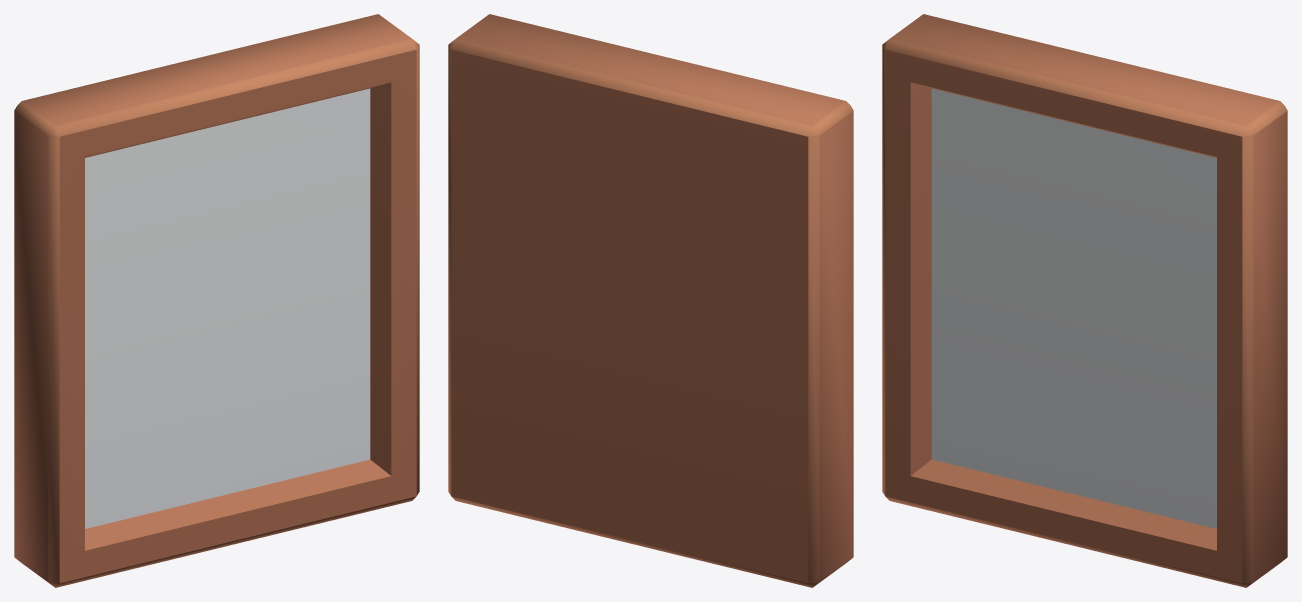
The model's file is kkf.pictureframe_large_a.glb.
3 views of the same model, side by side, from view 1: azimuth 30°, elevation 25°; view 2: azimuth 150°, elevation 25°; view 3: azimuth 330°, elevation 25° (orthographic).
Parts seen in each view (by area): view 1: pictureframe_large_A; view 2: pictureframe_large_A; view 3: pictureframe_large_A.
Boxes of the visible parts, x1,y1,x2,y2 form: pictureframe_large_A: [14, 14, 419, 587]; pictureframe_large_A: [448, 14, 853, 587]; pictureframe_large_A: [882, 14, 1287, 587].
Bounding box in the file's own units: 0.3613 × 0.4293 × 0.0715.
Materials: 1 (1 with a texture image).
